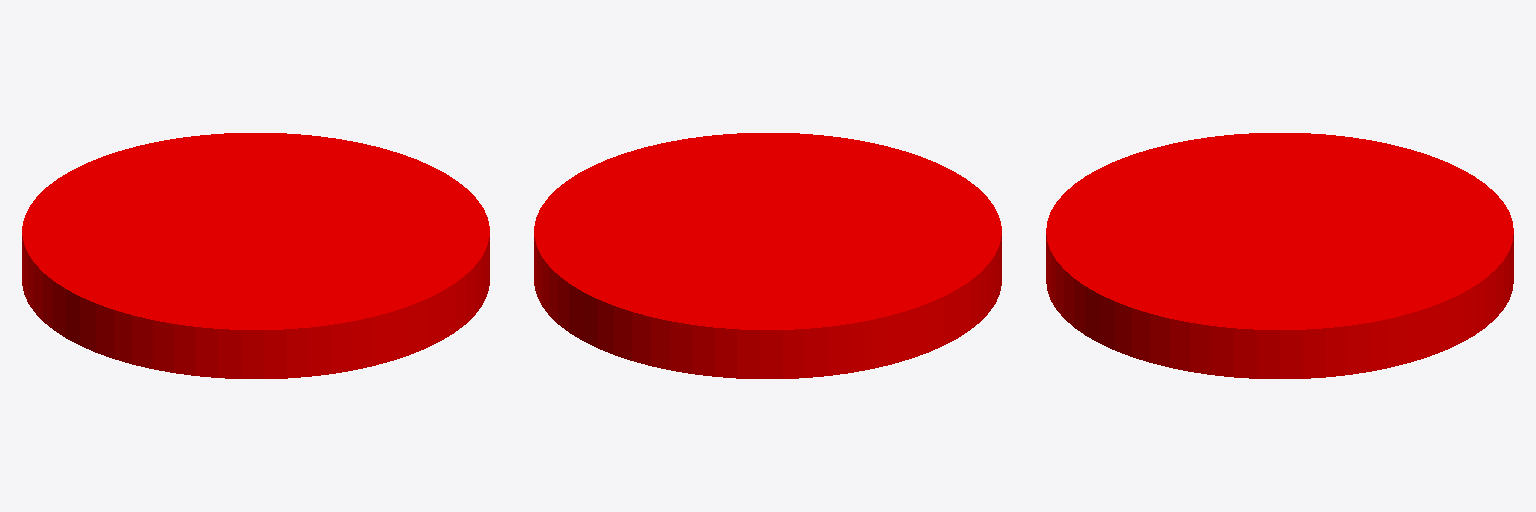
Rendered from ButtonClick.obj.
The picture shows the model from 3 angles: view 1: azimuth 30°, elevation 25°; view 2: azimuth 150°, elevation 25°; view 3: azimuth 270°, elevation 25°; orthographic projection.
Visible parts, largest first — view 1: ButtonClick; view 2: ButtonClick; view 3: ButtonClick.
Boxes of the visible parts, x1,y1,x2,y2 form: ButtonClick: [22, 133, 489, 378]; ButtonClick: [534, 133, 1001, 378]; ButtonClick: [1046, 133, 1513, 378].
Bounding box in the file's own units: 2.24 × 0.26 × 2.24.